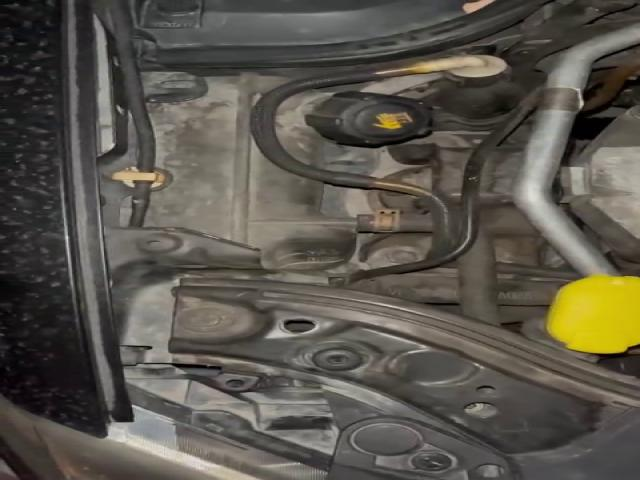antifreeze_tank: (146, 76, 424, 270), (276, 91, 433, 190)
